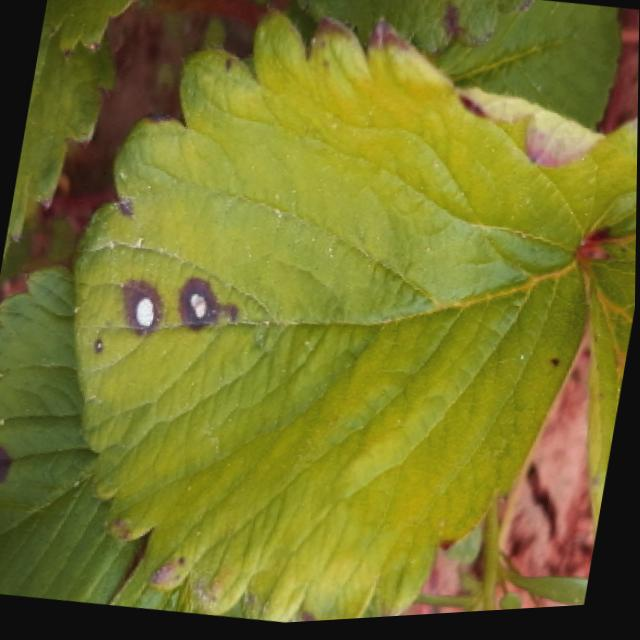Leaf Spot: (72, 4, 592, 626), (0, 266, 141, 606), (0, 0, 119, 273), (583, 261, 637, 561), (296, 0, 532, 64)
